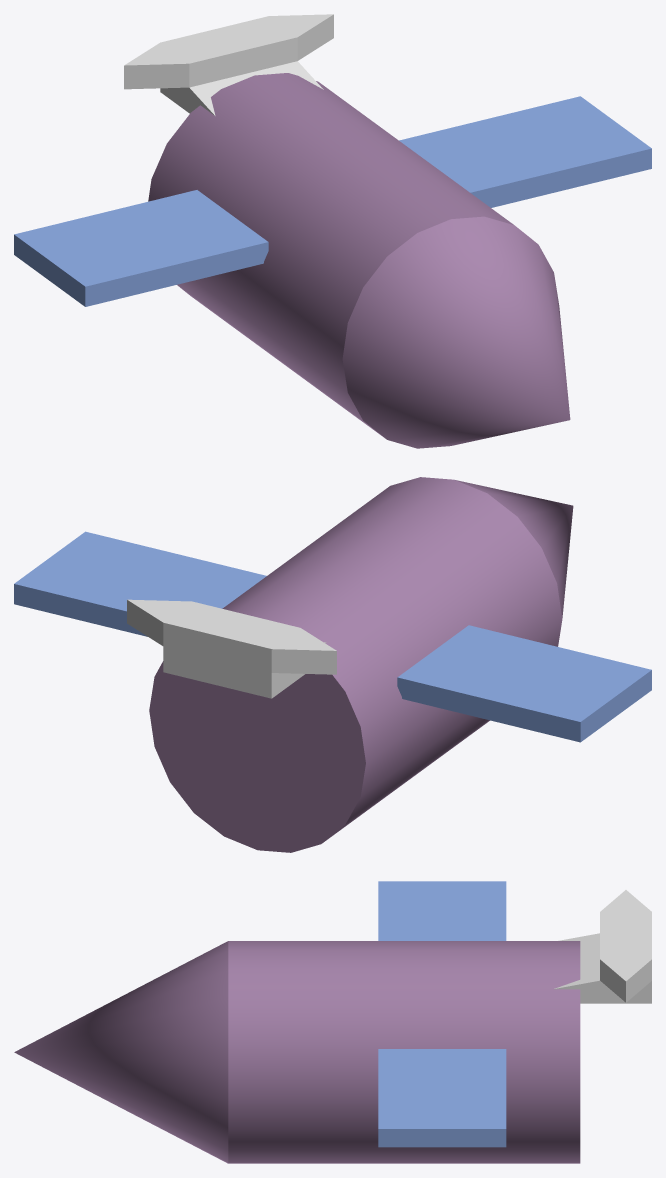
Rendered from PinkMainPlane.fbx.
3 renders of one model, top to bottom at view 1: azimuth 30°, elevation 25°; view 2: azimuth 150°, elevation 25°; view 3: azimuth 270°, elevation 25°, orthographic. The views are drawn at different scales.
Visible parts, largest first — view 1: pCylinder1, pCube2, pCube1, pCube3; view 2: pCylinder1, pCube2, pCube1, pCube3; view 3: pCylinder1, pCube1, pCube2, pCube3.
Part boxes in pixels (x1,y1,x2,y2): pCylinder1: [148, 73, 570, 448]; pCube2: [14, 190, 268, 306]; pCube1: [399, 96, 651, 207]; pCube3: [124, 14, 333, 115]; pCylinder1: [149, 477, 573, 852]; pCube2: [397, 625, 651, 742]; pCube1: [14, 531, 266, 636]; pCube3: [127, 599, 336, 698]; pCylinder1: [14, 941, 580, 1163]; pCube1: [378, 1049, 506, 1147]; pCube2: [378, 881, 506, 940]; pCube3: [553, 890, 651, 1003].
Bounding box in the file's own units: 5.23 × 2.15 × 5.69.
